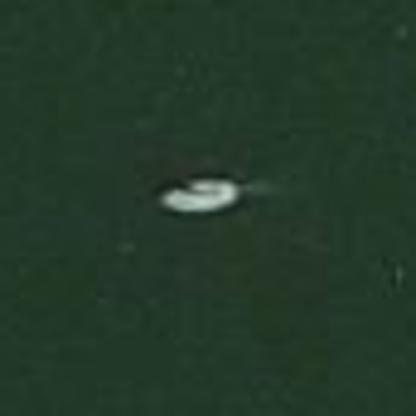ship: (152, 168, 254, 221)
